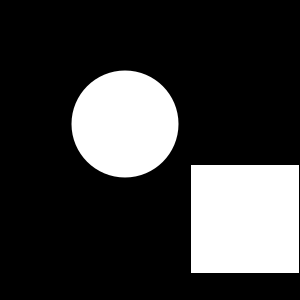circle: (191, 165, 299, 273)
rectangle: (72, 70, 178, 178)
